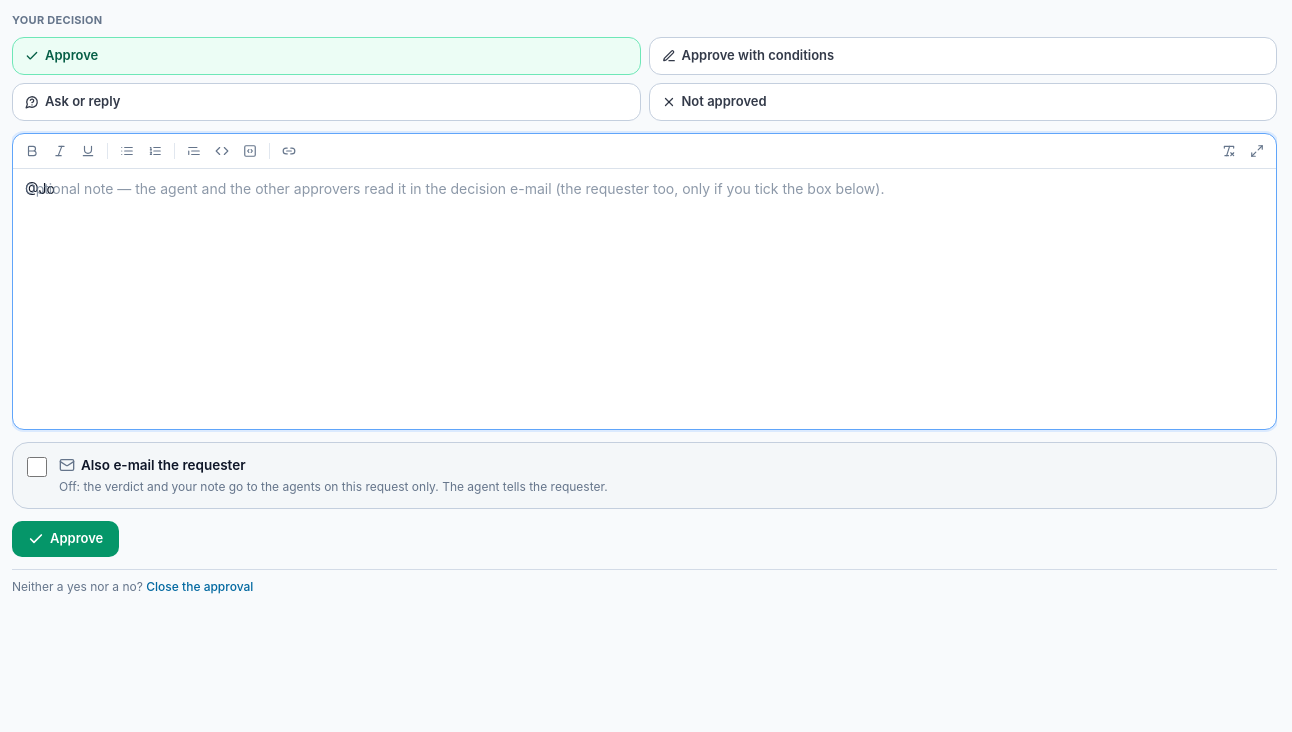
Scenario: approval note @mentions (QA 10-30 #8) › the approval editor offers the agents
Clear the field named "Decision note" at [40, 188], box left=25, top=180, right=55, bottom=196
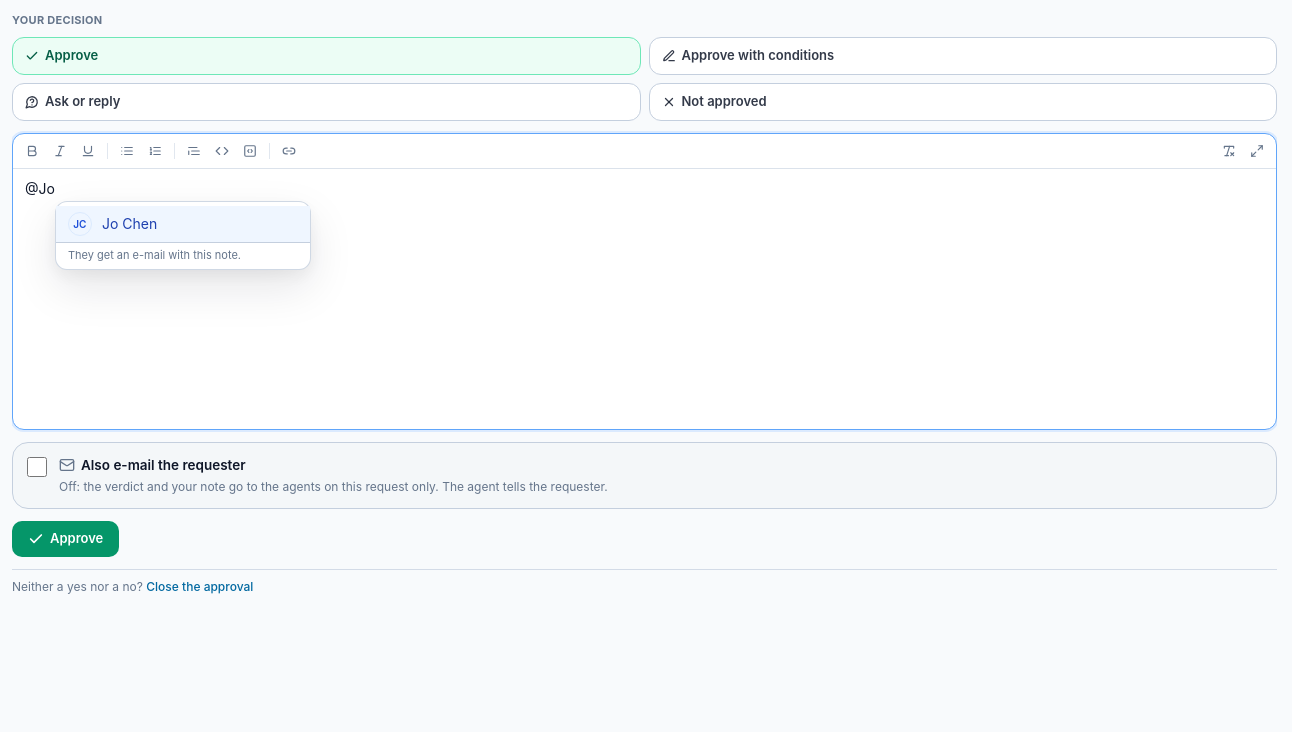
Expected: the list with test id "mention-menu" shows "Jo Chen", left=56, top=206, right=310, bottom=242
